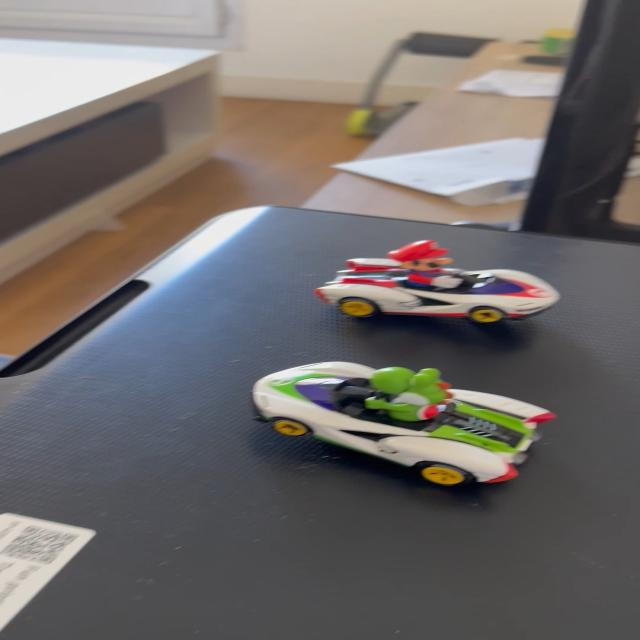mario: (318, 242, 574, 328)
yoshi: (238, 356, 580, 491)
